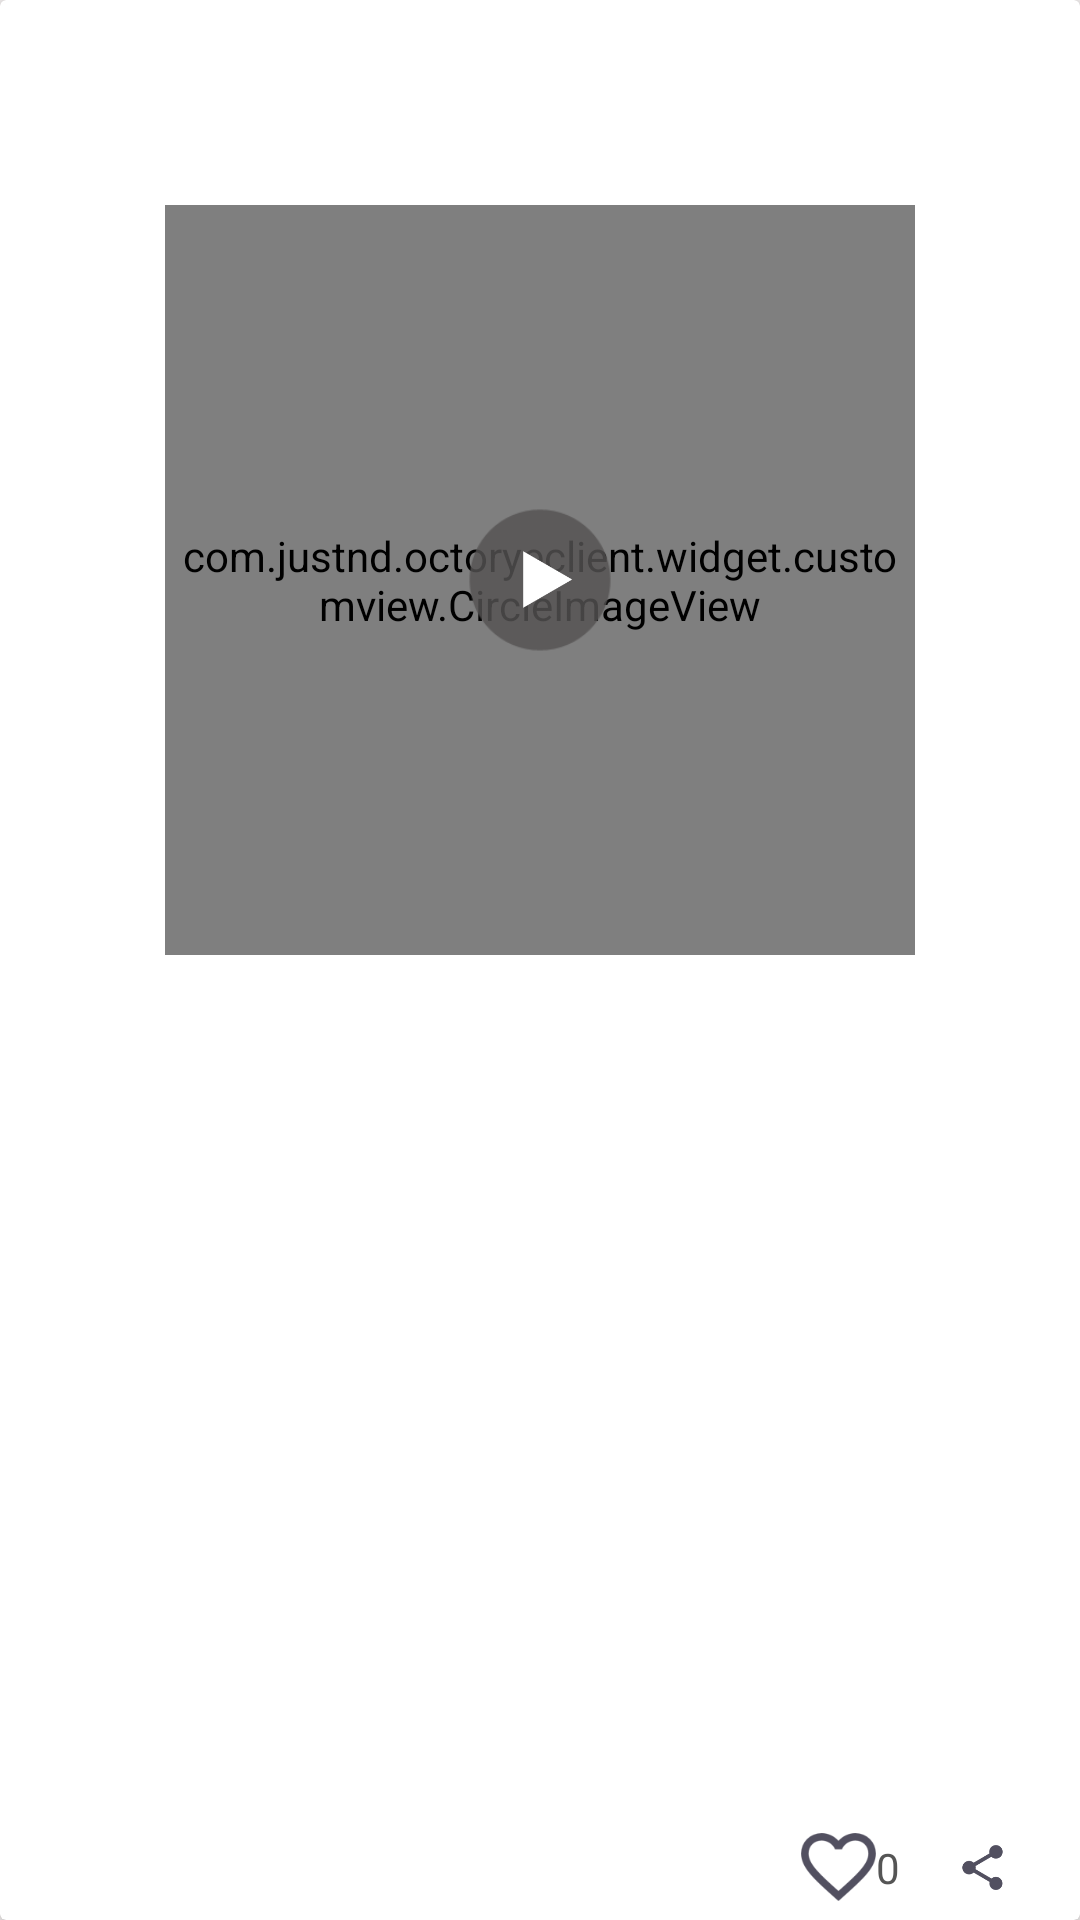

Named icons in this screenshot (1080 x 1920) and their bounding boxes, Rect(x1, y1, x2, y2):
like border: Rect(801, 1833, 876, 1901)
share: Rect(962, 1845, 1003, 1890)
